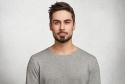male: (47, 6, 77, 44)
